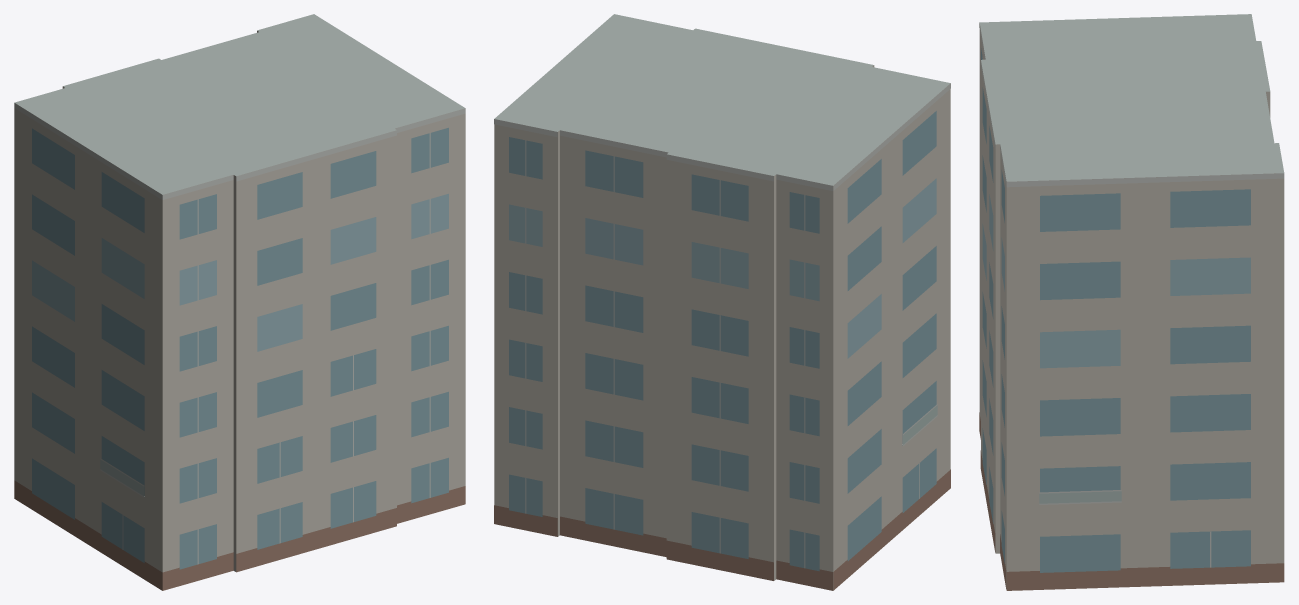
The model's file is survey-upis-32994839.glb.
3 renders of one model, left to right at view 1: azimuth 30°, elevation 25°; view 2: azimuth 150°, elevation 25°; view 3: azimuth 270°, elevation 25°, orthographic. The views are drawn at different scales.
Visible parts, largest first — view 1: survey-upis-32994839.tmp; view 2: survey-upis-32994839.tmp; view 3: survey-upis-32994839.tmp.
Part boxes in pixels (left/top/right/bottom): survey-upis-32994839.tmp: left=14, top=14, right=465, bottom=590; survey-upis-32994839.tmp: left=494, top=14, right=950, bottom=590; survey-upis-32994839.tmp: left=979, top=14, right=1284, bottom=590.
Size of the model in its own units: 16.1 by 18.3 by 12.36.
